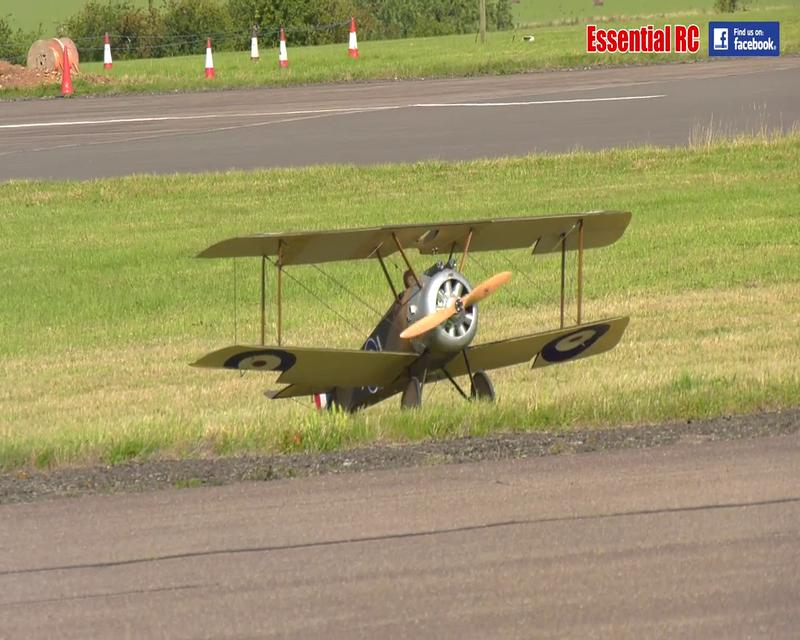UAV: (188, 209, 638, 416)
